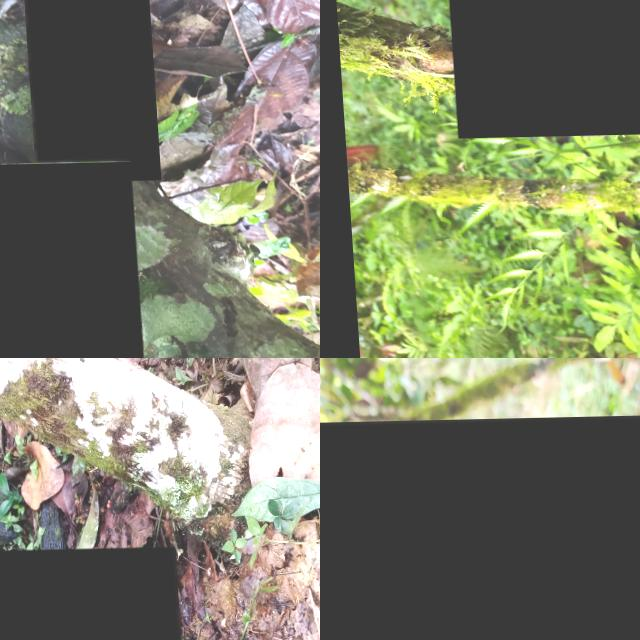Fitoftora: (320, 416, 640, 640), (0, 162, 139, 358), (444, 0, 640, 138), (0, 549, 178, 640)
Monilia: (19, 0, 156, 184)
